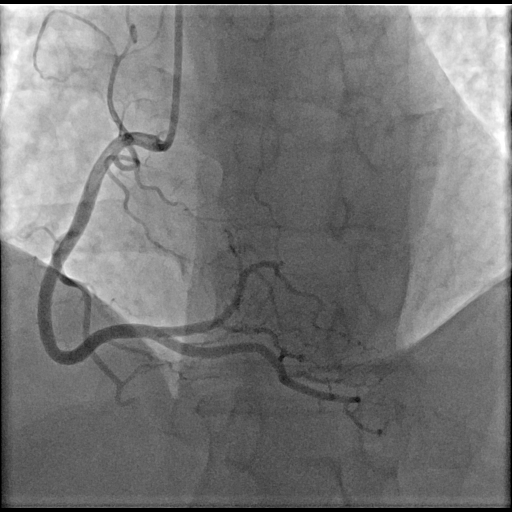RCA: (38, 131, 289, 381)
catherter: (160, 4, 183, 151)
